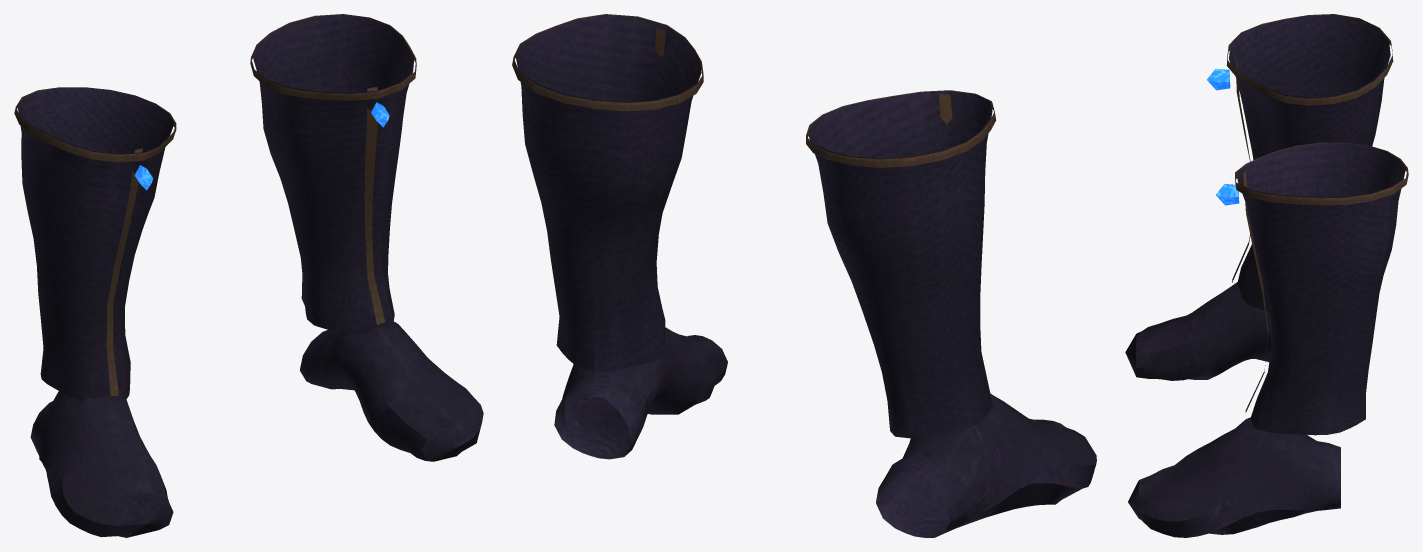
Rendered from Botas_de_Tecido_nivel75.glb.
3 views of the same model, side by side, from view 1: azimuth 30°, elevation 25°; view 2: azimuth 150°, elevation 25°; view 3: azimuth 270°, elevation 25° (orthographic). The views are drawn at different scales.
Parts seen in each view (by area): view 1: botas_de_tecido_nivel75; view 2: botas_de_tecido_nivel75; view 3: botas_de_tecido_nivel75.
Boxes of the visible parts, x1,y1,x2,y2 form: botas_de_tecido_nivel75: (14, 14, 483, 537); botas_de_tecido_nivel75: (512, 14, 1096, 537); botas_de_tecido_nivel75: (1125, 14, 1408, 537).
Size of the model in its own units: 0.5105 by 0.4094 by 0.3068.
1 material, 1 textured.
